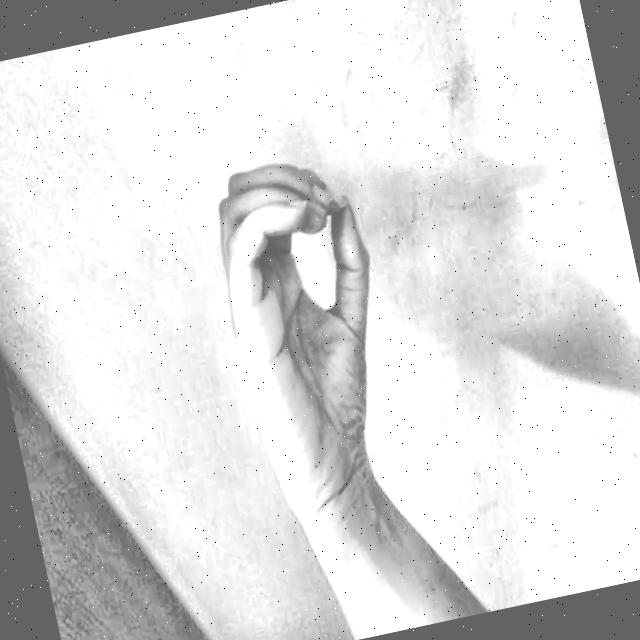O: (176, 114, 440, 531)
